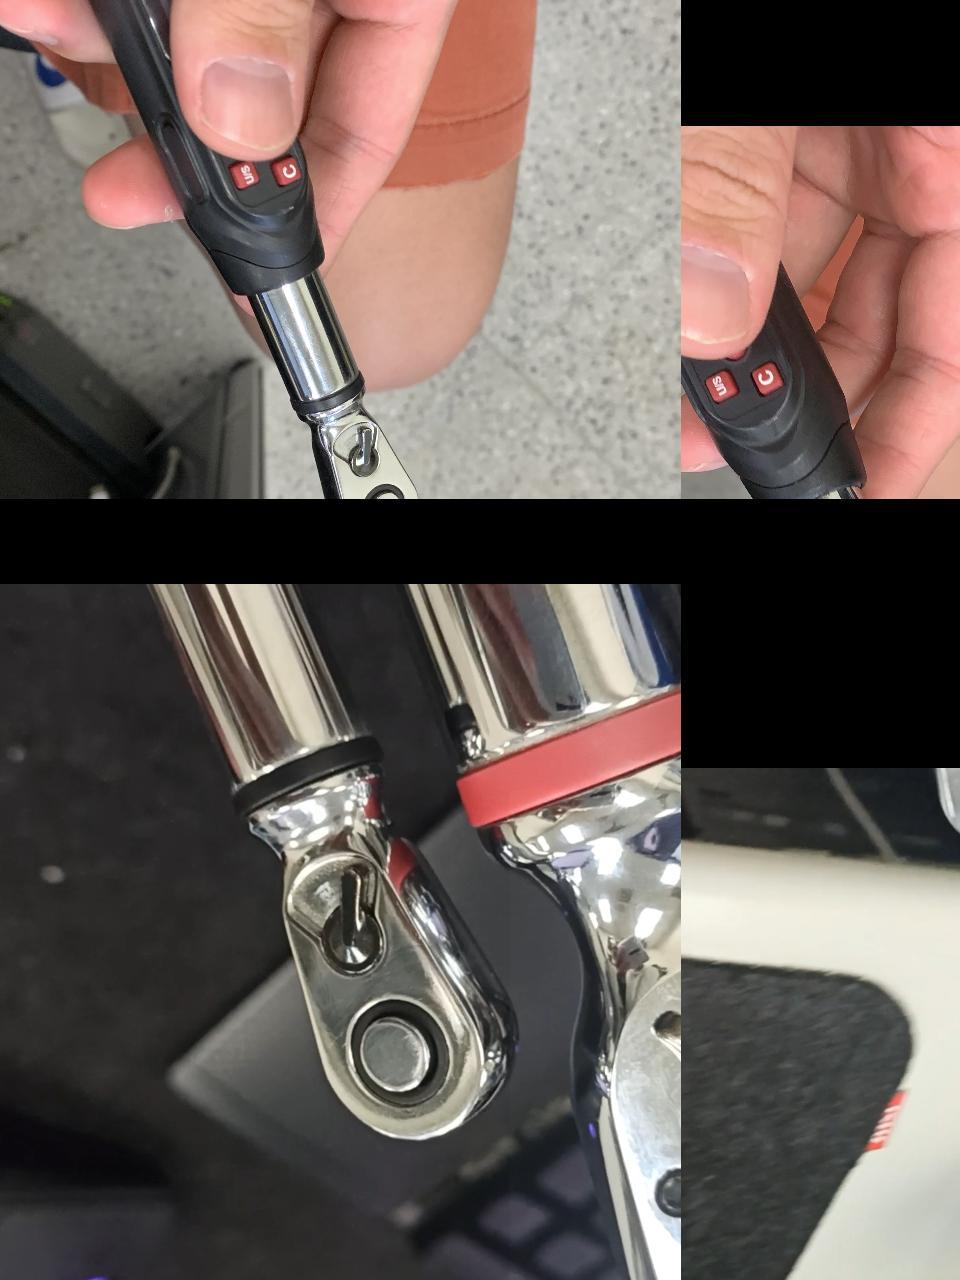Tool: (245, 753, 523, 1151), (509, 790, 681, 1280), (303, 388, 421, 499)
